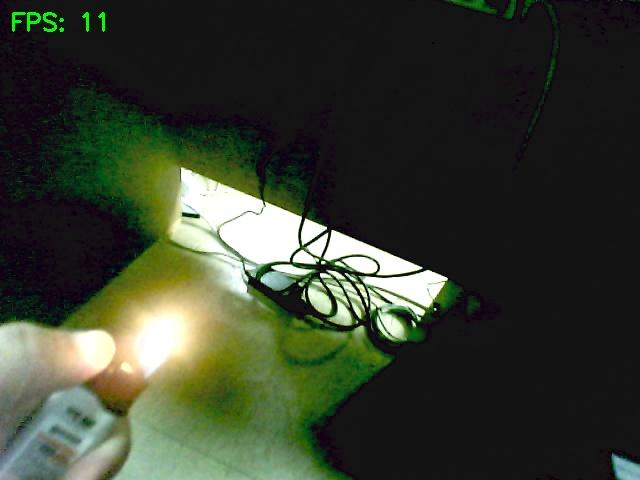fire: (138, 318, 178, 377)
smoke: (137, 317, 182, 379)
